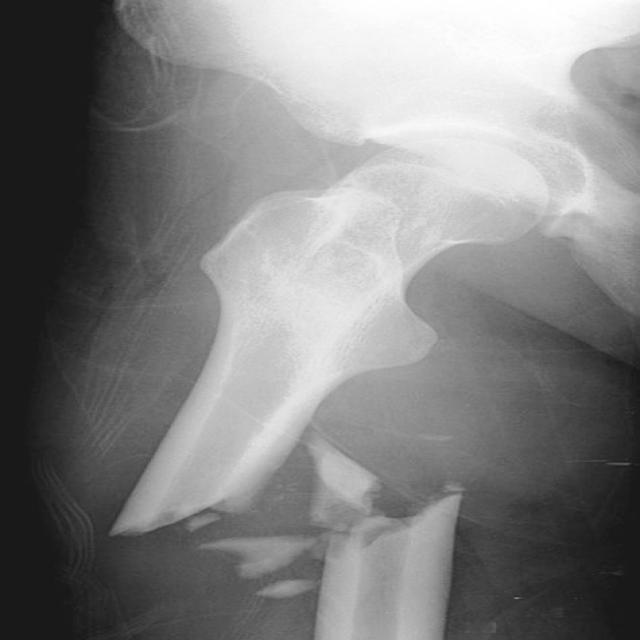Comminuted Fracture: (111, 391, 476, 570)
